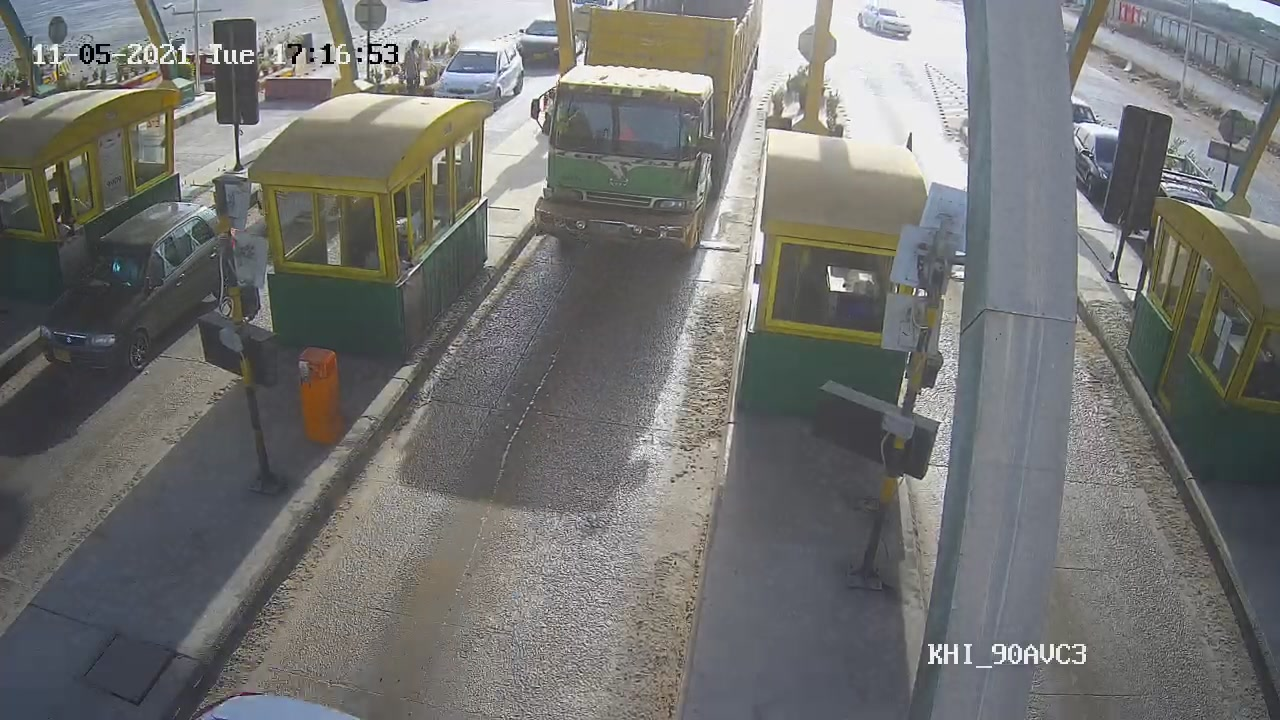F6: (535, 1, 769, 257)
